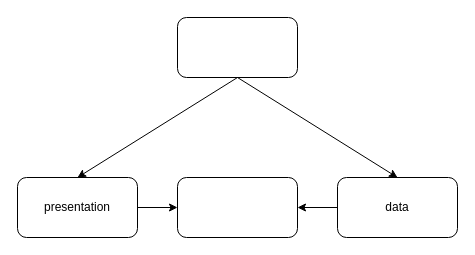
Image size: 475x255. Some labels were removed from this diagram. The shapes that lost their labels are listed below. From the top down, each one's centre as x and y in pixels, then its label:
point (237, 47): app
point (237, 207): domain
